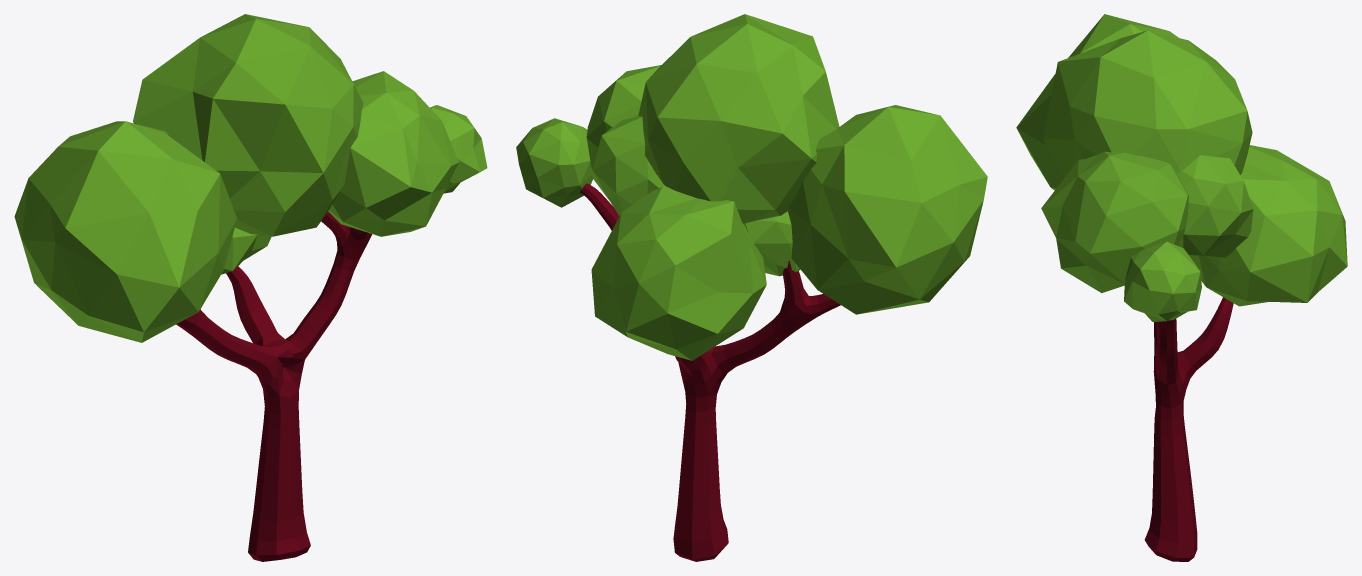
The model's file is arvore.fbx.
The picture shows the model from 3 angles, left to right: view 1: azimuth 30°, elevation 25°; view 2: azimuth 150°, elevation 25°; view 3: azimuth 270°, elevation 25°; orthographic projection. The views are drawn at different scales.
Parts seen in each view (by area): view 1: Icosphere.002, Icosphere.001, Plane, Icosphere, Icosphere.003; view 2: Icosphere.001, Icosphere.002, Icosphere.004, Plane, Icosphere.005, Icosphere, Icosphere.003; view 3: Icosphere.001, Icosphere.004, Icosphere, Plane, Icosphere.005, Icosphere.002.
Part boxes in pixels (x1,y1,x2,y2): Icosphere.002: (14,121,236,342); Icosphere.001: (133,14,487,236); Plane: (176,211,372,561); Icosphere: (328,71,458,236); Icosphere.003: (221,227,257,274); Icosphere.001: (516,14,839,224); Icosphere.002: (788,105,987,314); Icosphere.004: (591,186,766,360); Plane: (580,183,840,561); Icosphere.005: (592,116,664,215); Icosphere: (586,65,661,168); Icosphere.003: (744,211,800,276); Icosphere.001: (1043,30,1252,321); Icosphere.004: (1189,145,1347,306); Icosphere: (1041,151,1188,293); Plane: (1144,297,1233,561); Icosphere.005: (1177,155,1253,257); Icosphere.002: (1016,14,1178,190).
Bounding box in the file's own units: 679 × 797 × 469.
